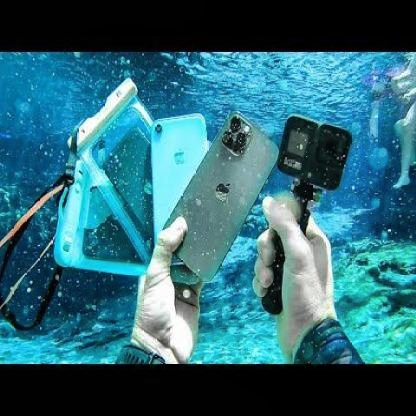cellphone: (165, 114, 278, 281), (90, 110, 172, 255), (151, 117, 207, 264), (280, 114, 350, 190)
